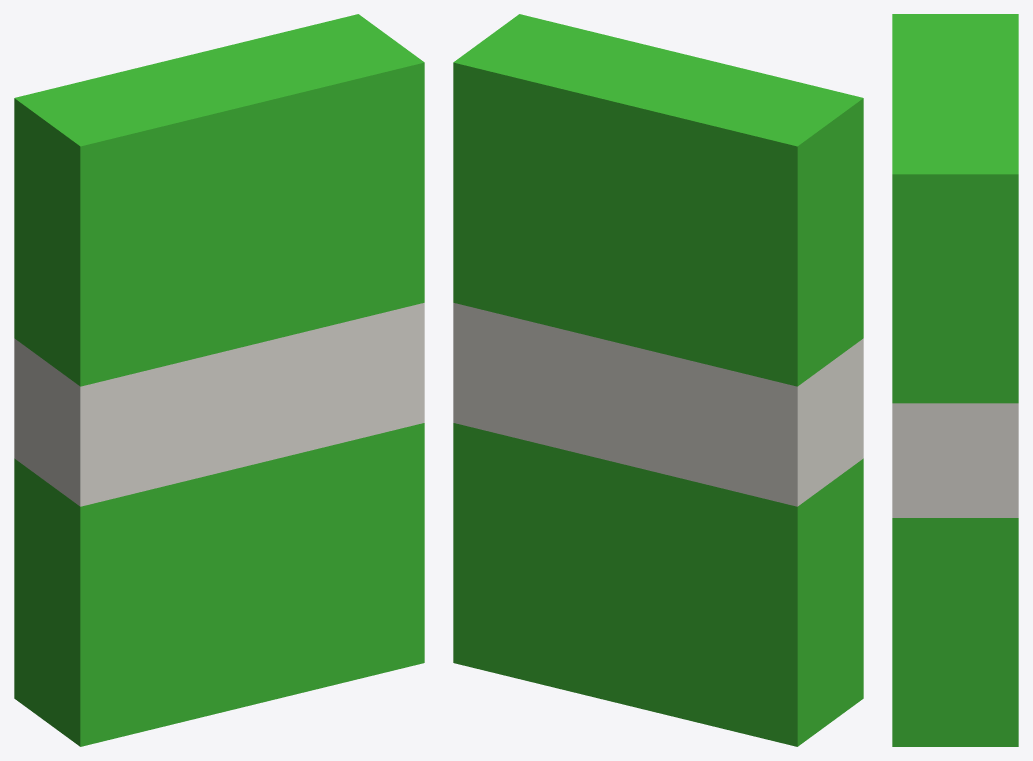
File: cm_cloth_3.glb
The picture shows the model from 3 angles, left to right: view 1: azimuth 30°, elevation 25°; view 2: azimuth 150°, elevation 25°; view 3: azimuth 270°, elevation 25°; orthographic projection. The views are drawn at different scales.
Visible parts, largest first — view 1: cm_cloth_3_body; view 2: cm_cloth_3_body; view 3: cm_cloth_3_body.
Part boxes in pixels (box(x1,y1,x2,y2)): cm_cloth_3_body: box(14, 14, 424, 746); cm_cloth_3_body: box(453, 14, 863, 746); cm_cloth_3_body: box(892, 14, 1018, 746).
Size of the model in its own units: 0.1875 by 0.3125 by 0.0625.
1 material, 1 textured.
